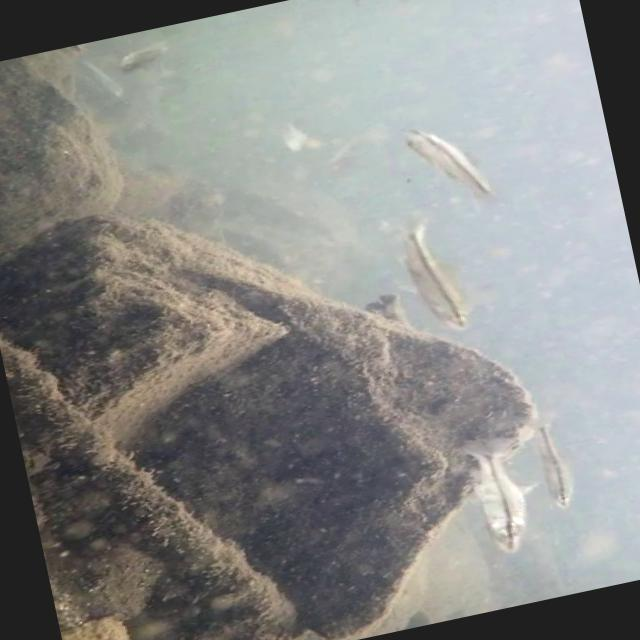Cakil Baligi: (454, 426, 548, 560), (398, 113, 508, 213), (401, 208, 483, 338), (522, 403, 592, 512)
